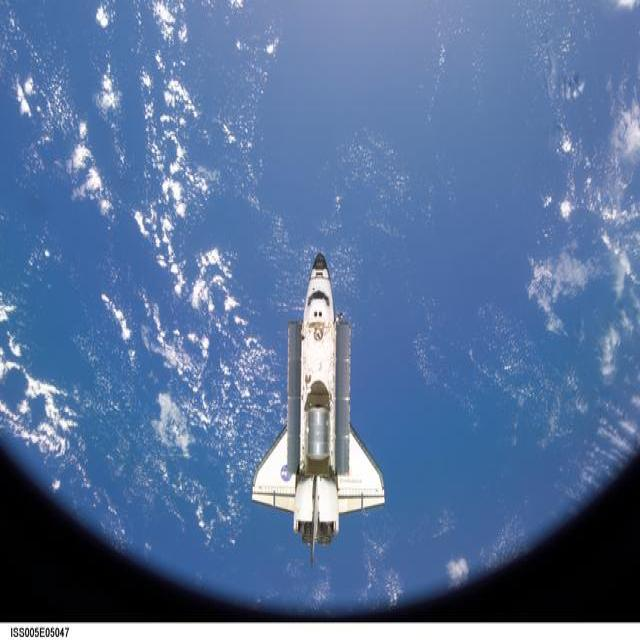medium_debris: (252, 254, 385, 562)
